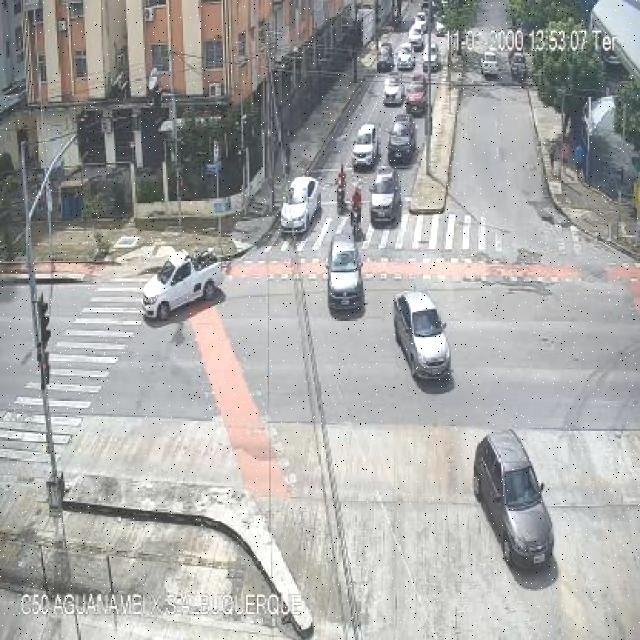Car: (473, 430, 553, 570), (393, 291, 452, 380), (326, 236, 364, 312), (281, 176, 323, 234), (369, 168, 400, 223), (388, 115, 416, 162), (352, 123, 379, 169), (403, 80, 428, 114), (383, 74, 405, 106), (480, 48, 500, 77), (408, 20, 426, 50), (422, 41, 440, 70), (510, 52, 527, 82), (377, 42, 394, 72), (396, 45, 414, 71), (435, 19, 446, 37)
Truck: (138, 247, 224, 322)
